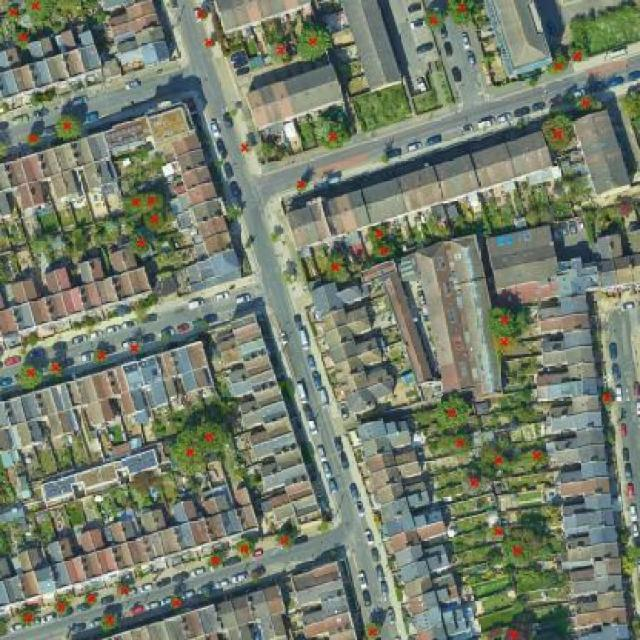tree: (164, 427, 215, 479), (425, 392, 477, 435), (190, 412, 239, 457), (292, 22, 339, 67), (428, 425, 479, 464), (534, 110, 578, 155), (309, 245, 354, 289), (470, 435, 515, 479), (307, 116, 359, 153), (486, 303, 528, 342), (498, 538, 541, 572), (260, 35, 298, 72), (47, 111, 87, 145), (14, 361, 49, 395), (443, 0, 483, 29), (513, 442, 553, 470), (478, 518, 513, 549), (538, 48, 570, 81), (455, 472, 495, 498), (565, 92, 607, 116), (21, 0, 61, 25), (138, 209, 175, 236), (486, 336, 531, 358), (53, 0, 92, 25), (484, 519, 515, 550), (360, 219, 395, 246), (413, 9, 449, 35), (228, 534, 260, 563), (269, 528, 303, 555), (614, 84, 640, 119), (127, 232, 159, 258), (48, 592, 77, 620), (366, 242, 402, 264), (458, 474, 491, 498), (615, 553, 640, 584), (118, 190, 145, 218), (97, 610, 125, 636), (0, 0, 25, 28), (202, 549, 228, 574), (498, 623, 535, 640), (614, 524, 637, 551), (109, 580, 137, 602), (78, 588, 107, 609), (40, 358, 69, 379), (16, 606, 42, 629), (11, 28, 35, 52), (24, 129, 48, 153), (564, 45, 588, 69), (232, 137, 257, 160), (90, 343, 113, 368), (142, 186, 164, 212), (357, 620, 385, 640), (288, 174, 312, 197), (189, 5, 214, 25), (199, 34, 221, 54), (123, 339, 146, 358), (164, 594, 185, 612)
